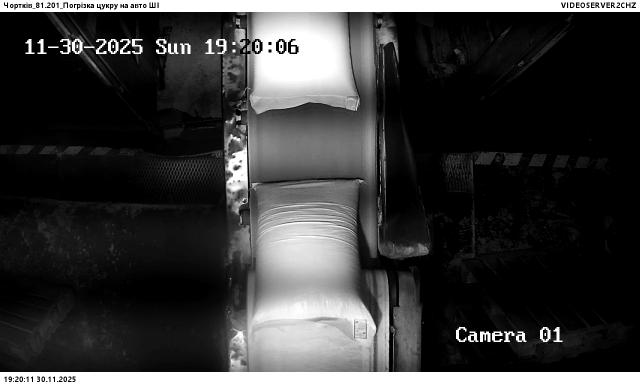bag: (252, 181, 376, 348), (250, 12, 361, 114)
